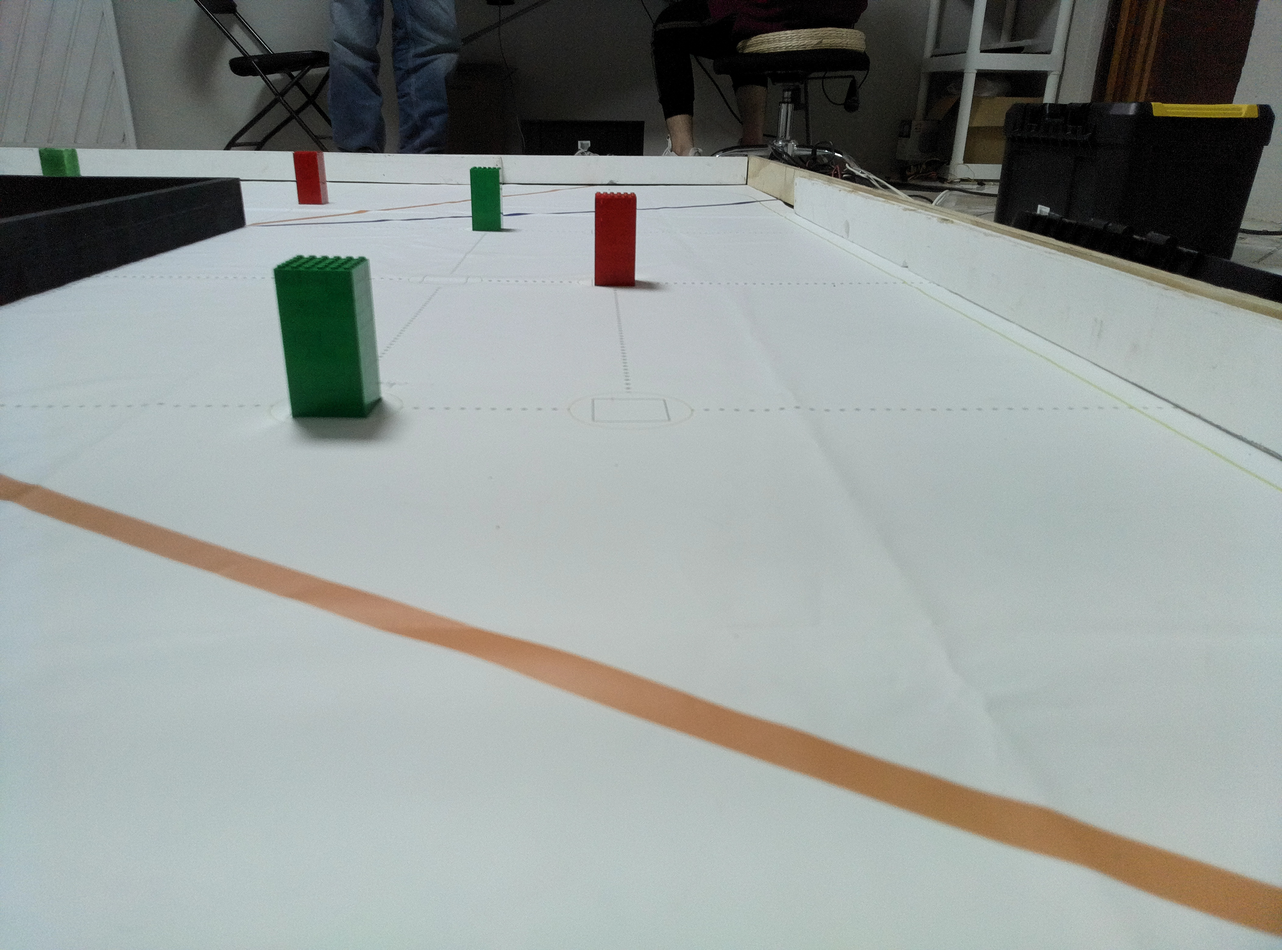greenbox: (268, 248, 385, 424), (470, 165, 502, 234), (39, 147, 78, 177)
redbox: (594, 188, 637, 287), (293, 145, 332, 206)
